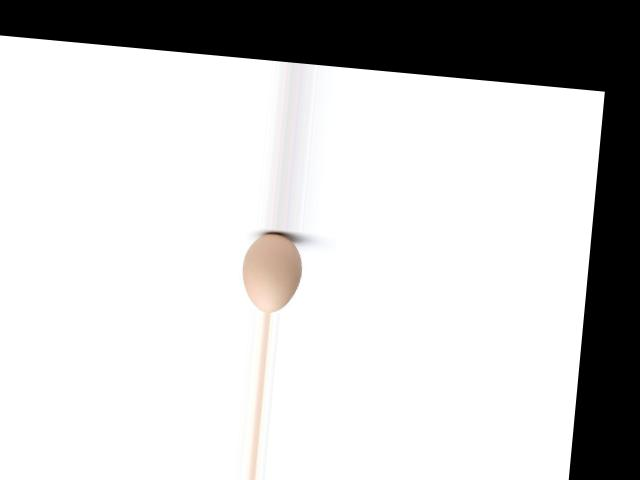egg: (239, 230, 304, 314)
